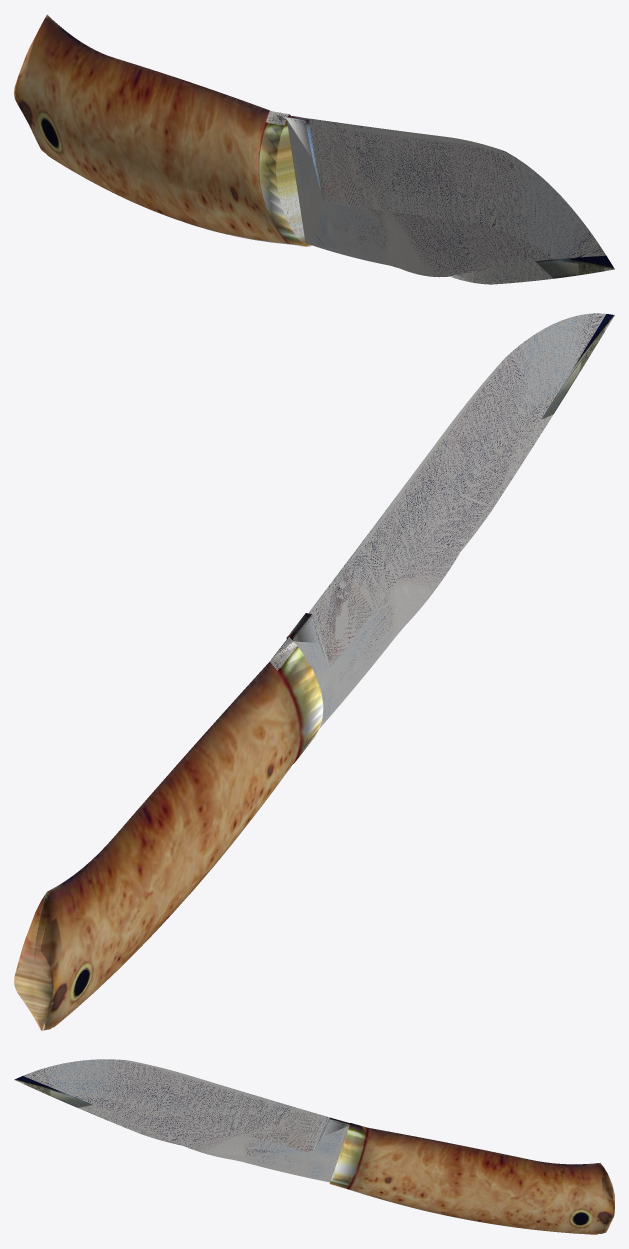
File: model_scale.obj
The picture shows the model from 3 angles, top to bottom: view 1: azimuth 30°, elevation 25°; view 2: azimuth 150°, elevation 25°; view 3: azimuth 270°, elevation 25°; orthographic projection. The views are drawn at different scales.
Visible parts, largest first — view 1: mesh1_mesh1-geometry; view 2: mesh1_mesh1-geometry; view 3: mesh1_mesh1-geometry.
Part boxes in pixels (x1=…): mesh1_mesh1-geometry: x1=14, y1=14, x2=614, y2=284; mesh1_mesh1-geometry: x1=14, y1=313, x2=614, y2=1030; mesh1_mesh1-geometry: x1=14, y1=1059, x2=614, y2=1234.
Bounding box in the file's own units: 0.0092 × 0.0665 × 0.2072.
4 materials, 3 textured.
